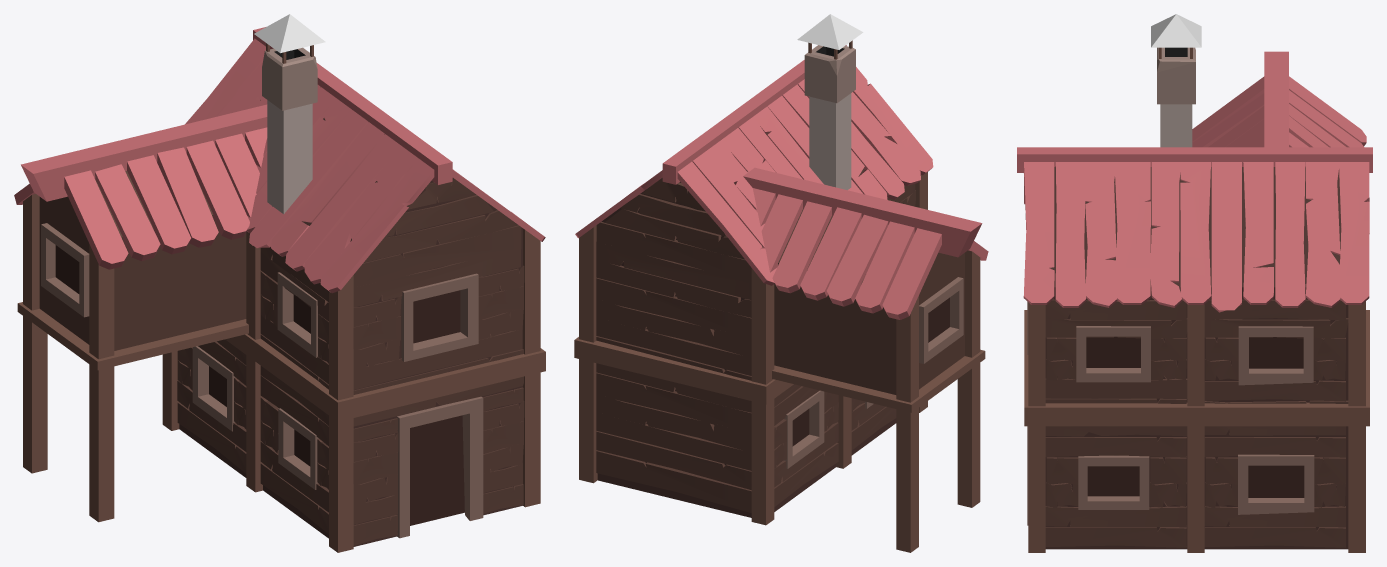
The model's file is Building_014.glb.
3 renders of one model, left to right at view 1: azimuth 30°, elevation 25°; view 2: azimuth 150°, elevation 25°; view 3: azimuth 270°, elevation 25°, orthographic. The views are drawn at different scales.
Visible parts, largest first — view 1: Building_014; view 2: Building_014; view 3: Building_014.
Boxes of the visible parts, box(x1,y1,x2,y2) form: Building_014: box(14, 14, 545, 552); Building_014: box(574, 14, 988, 552); Building_014: box(1017, 14, 1372, 552).
Bounding box in the file's own units: 13.95 × 15.98 × 11.27.
1 material, 1 textured.
